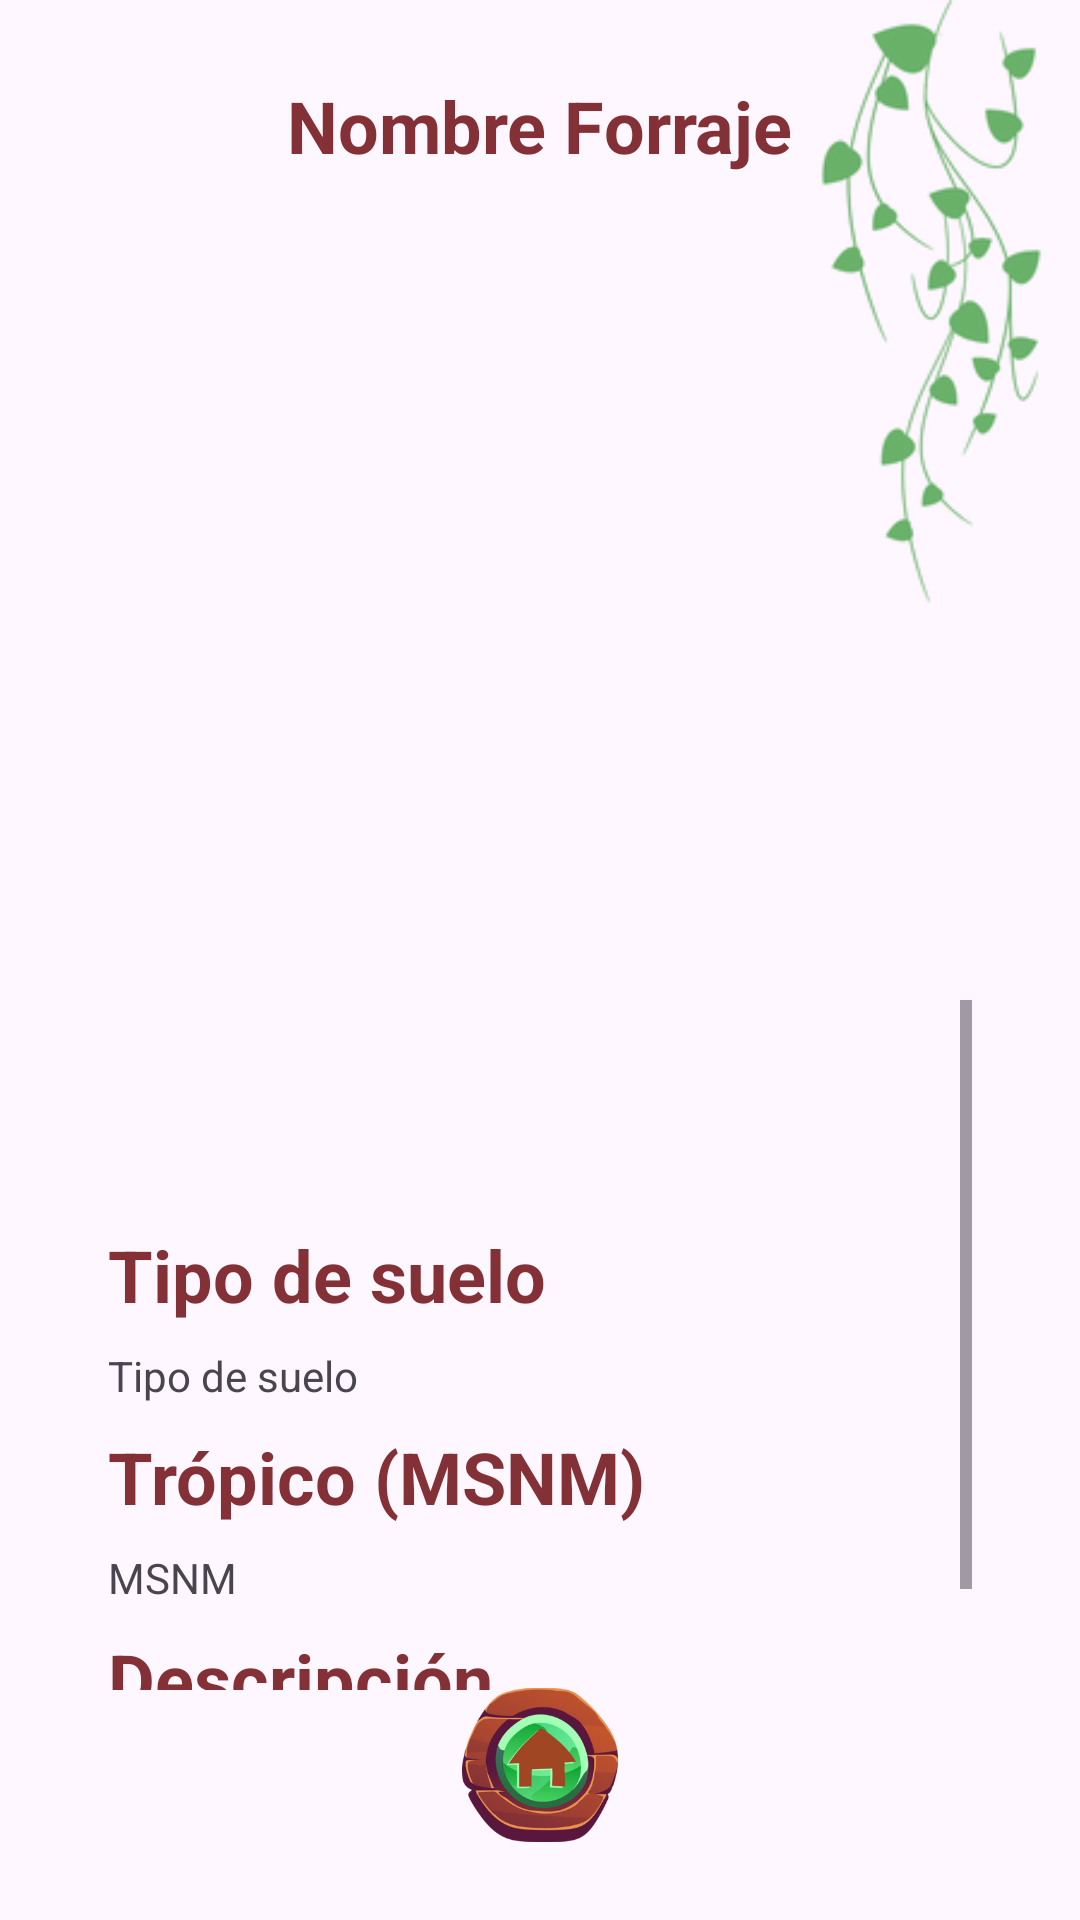

Icon click points for this 1080px×1920px phone screenshot, format point (x, y):
casita: point (540, 1765)
